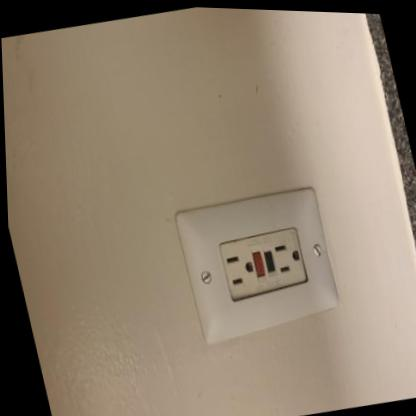OUTLET: (173, 183, 343, 337)
